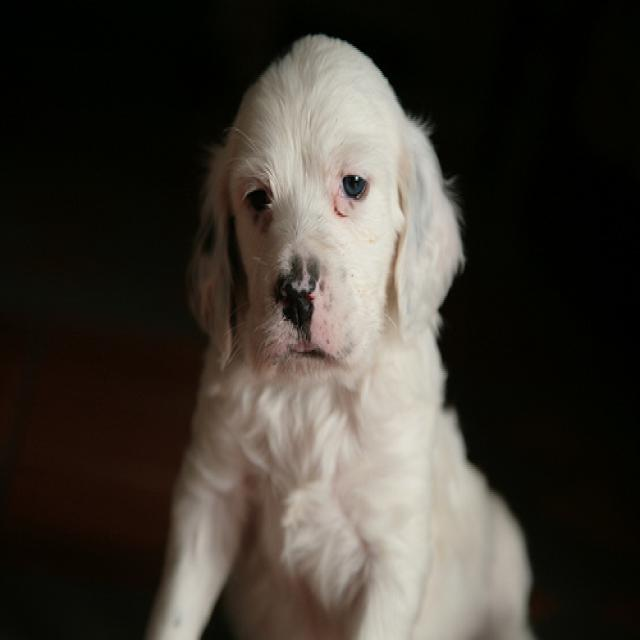dog-english_setter: (128, 33, 543, 636)
